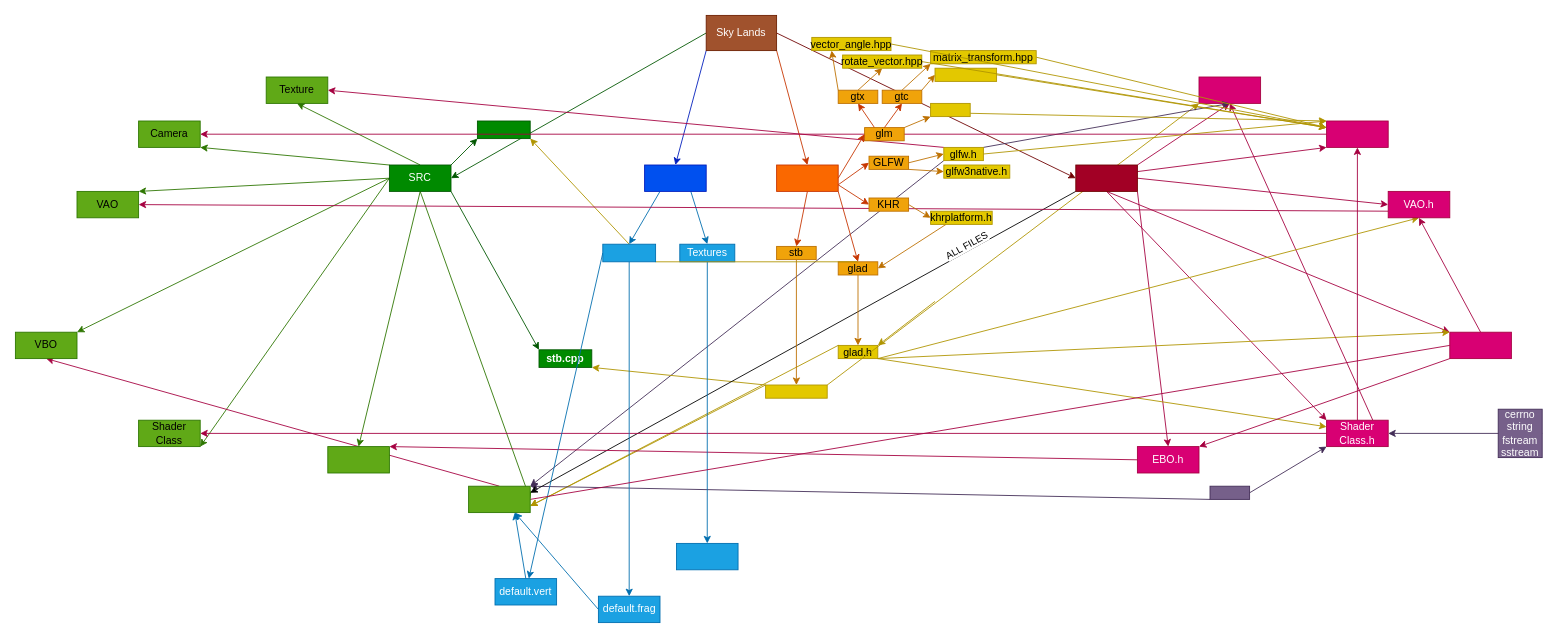
Some shapes in this 1565 by 638 pixel diagram are drawn without their labels. The shapes that lost their labels are listed below. From the top down, each one's centre as x and y in pixels, then its label:
the point at 965,74: type_prt,hpp
the point at 1229,89: Texture.h
the point at 503,129: glad.c
the point at 950,110: glm.hpp
the point at 1357,133: Camera.h
the point at 675,177: Resource Files
the point at 807,177: include
the point at 1106,177: Header Files
the point at 629,252: Shader
the point at 1480,345: VBO.h
the point at 796,391: stb_image.h
the point at 358,459: EBO
the point at 499,499: main
the point at 1229,492: iostream
the point at 707,556: meme.png
